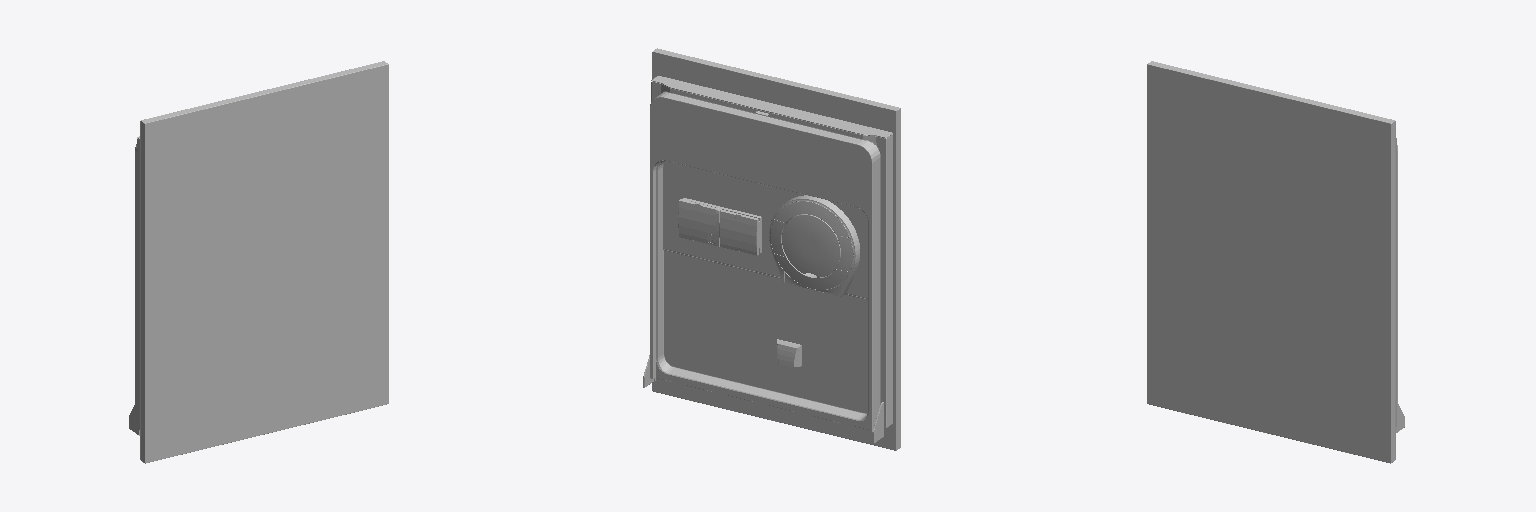
The model's file is DishwasherFront.obj.
The picture shows the model from 3 angles: view 1: azimuth 30°, elevation 25°; view 2: azimuth 150°, elevation 25°; view 3: azimuth 330°, elevation 25°; orthographic projection.
Parts seen in each view (by area): view 1: SM_Dishwasher_Front_8; view 2: SM_Dishwasher_Front_8; view 3: SM_Dishwasher_Front_8.
Boxes of the visible parts, x1=… form: SM_Dishwasher_Front_8: x1=129, y1=61, x2=388, y2=463; SM_Dishwasher_Front_8: x1=643, y1=48, x2=900, y2=450; SM_Dishwasher_Front_8: x1=1147, y1=61, x2=1404, y2=463.
Bounding box in the file's own units: 59.69 × 79.49 × 9.22.